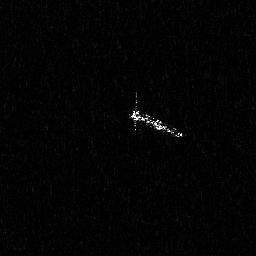ship: (128, 91, 186, 141)
